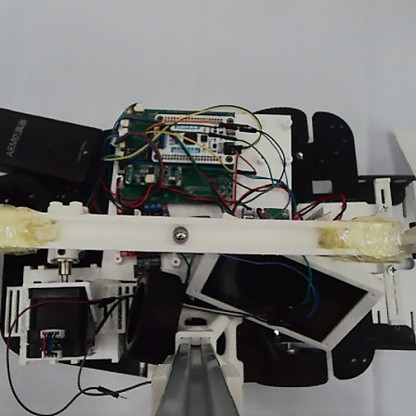ironball: (170, 223, 189, 244)
